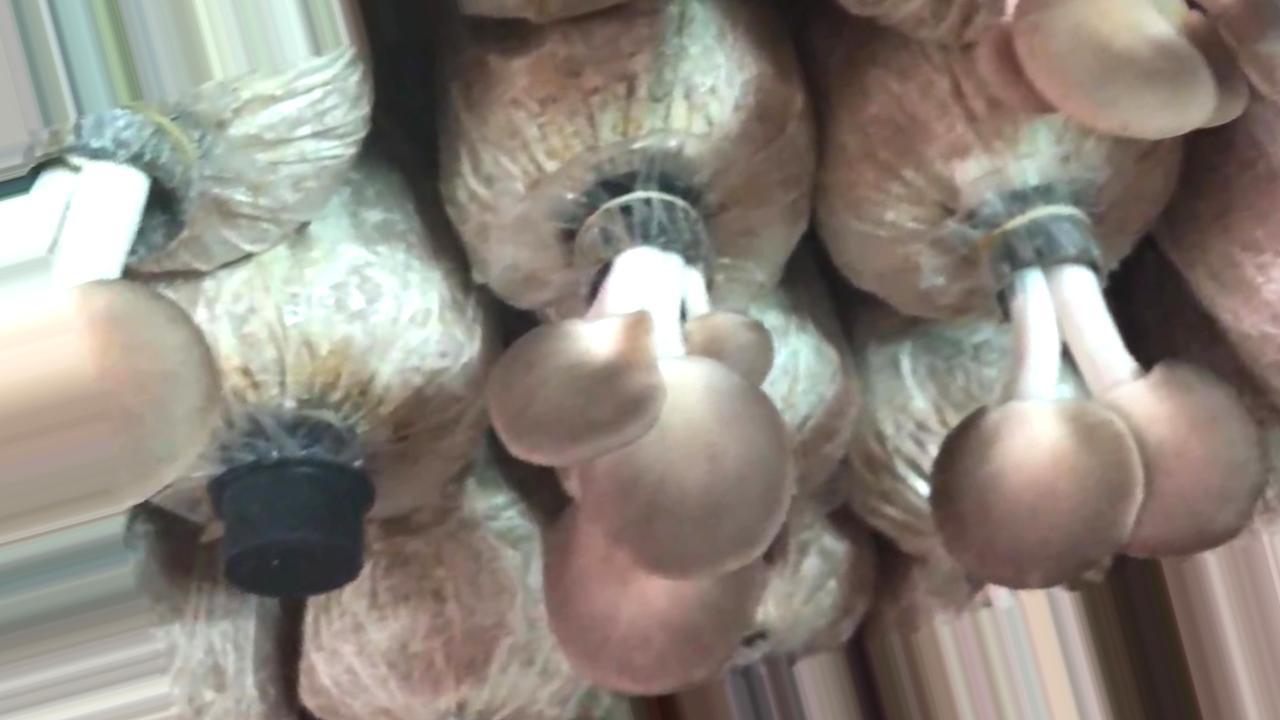nam: (488, 198, 796, 692), (934, 212, 1259, 586), (1, 110, 224, 537), (1012, 1, 1273, 142)
